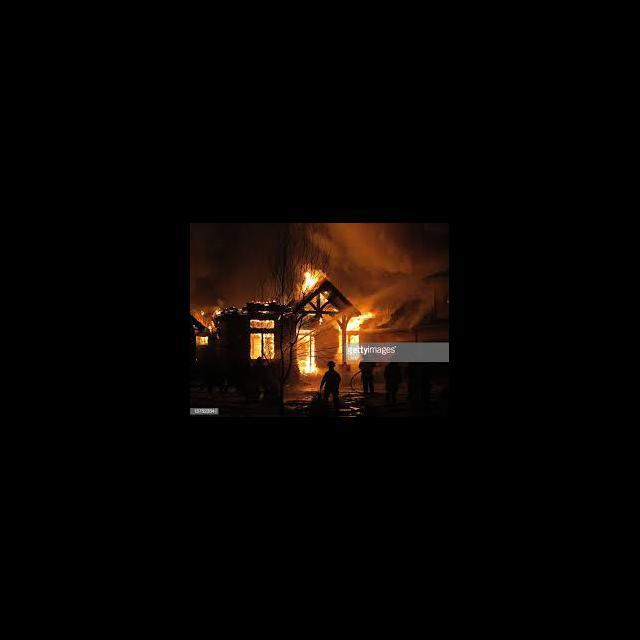Fire: (342, 309, 374, 363), (248, 316, 277, 362), (294, 328, 321, 376), (192, 306, 220, 332), (301, 263, 322, 293), (197, 332, 210, 347)
